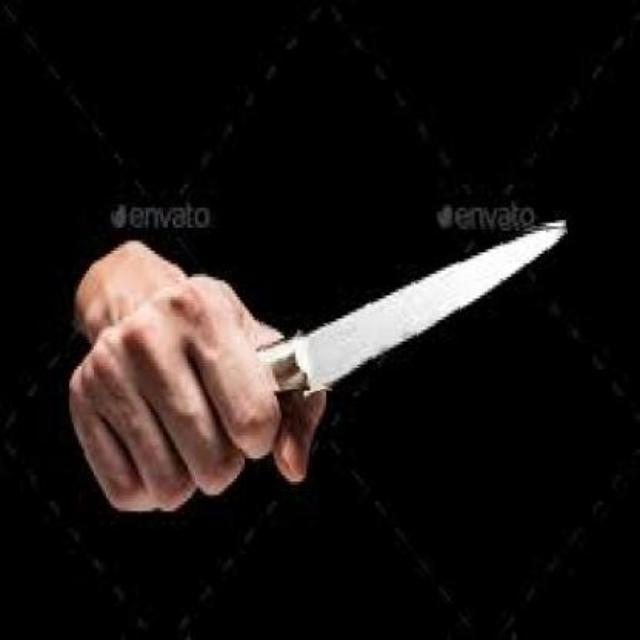Knife: (258, 220, 566, 390)
